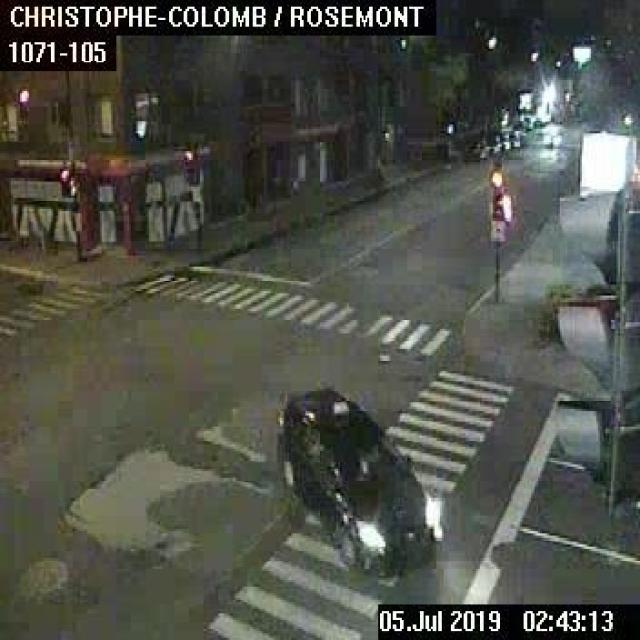vehicle: (279, 388, 440, 574), (463, 140, 488, 160), (486, 134, 501, 154), (508, 130, 520, 146), (498, 132, 509, 148)
